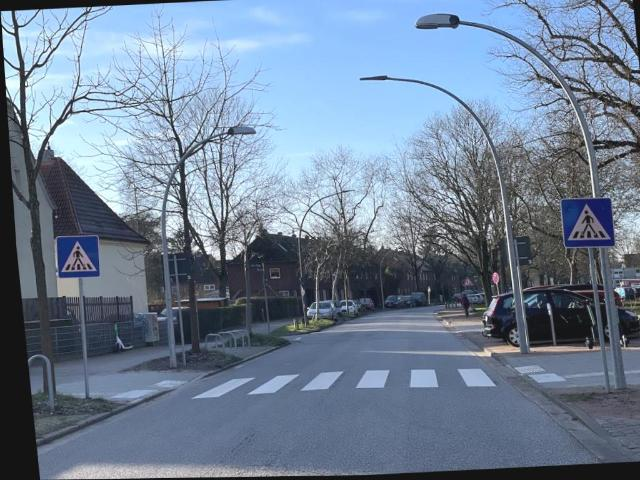crosswalk-sign: (562, 199, 617, 250), (57, 236, 102, 279)
